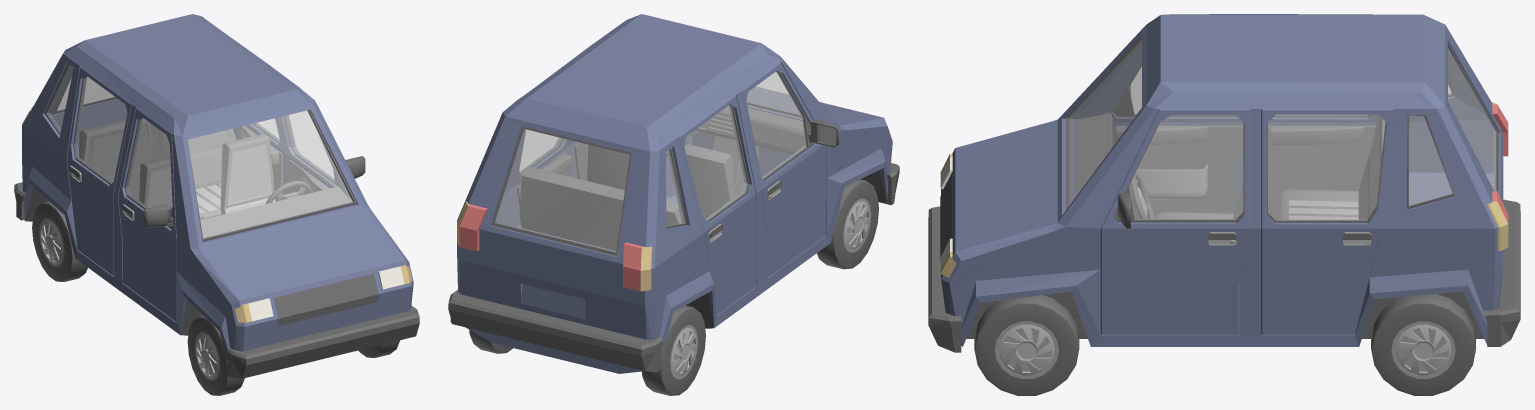
The model's file is BlockingMeInteresa(Carrito).fbx.
The picture shows the model from 3 angles, left to right: view 1: azimuth 30°, elevation 25°; view 2: azimuth 150°, elevation 25°; view 3: azimuth 270°, elevation 25°; orthographic projection. The views are drawn at different scales.
Parts seen in each view (by area): view 1: Chassis.003; view 2: Chassis.003; view 3: Chassis.003.
Boxes of the visible parts, x1=… form: Chassis.003: x1=14, y1=14, x2=419, y2=395; Chassis.003: x1=448, y1=14, x2=899, y2=395; Chassis.003: x1=928, y1=14, x2=1520, y2=395.
Bounding box in the file's own units: 332 × 333 × 606.
